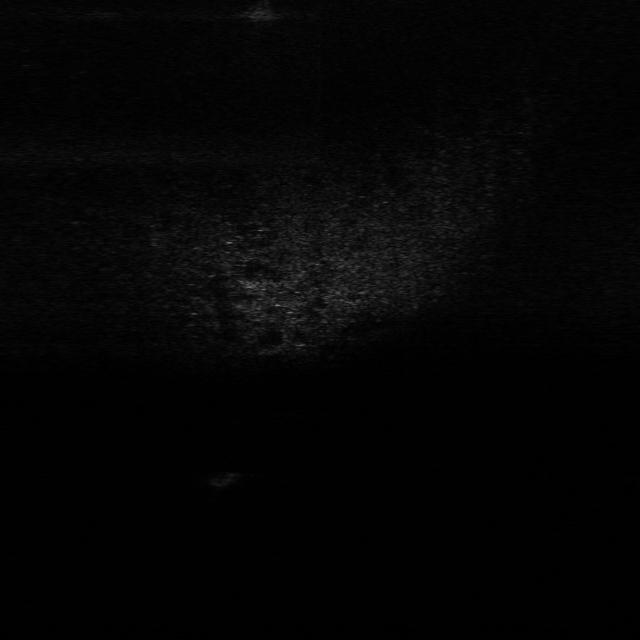cylinder: (212, 470, 243, 491)
